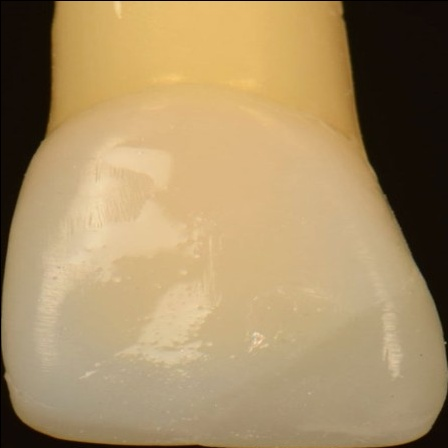coin_1: (364, 158, 384, 178)
coin_2: (425, 282, 445, 302)
coin_3: (44, 137, 64, 157)
coin_4: (21, 179, 41, 199)
